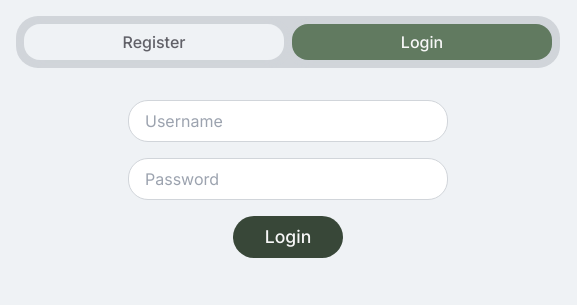
Login Page -- /Login › Unauthenticated User › Input Validation -- Login Tab › shows an error message when user submits without entering a username
This screenshot has width=577, height=305.
Type "password123" into the password field with placeholder "Password" at (288, 179), box [128,158,448,200]
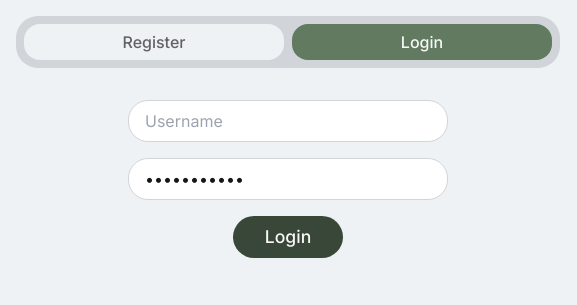
Click the button with test id "submit-btn" at (288, 237), box [233,216,343,258]
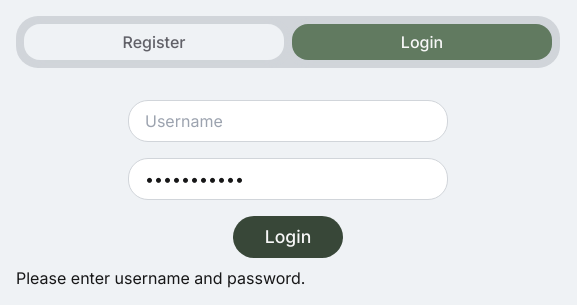
Check: the text with test id "message" reads "Please enter username and password.", box [16,268,306,288]
